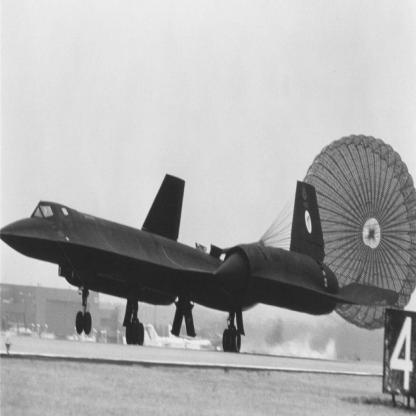SR71: (1, 173, 399, 354)
